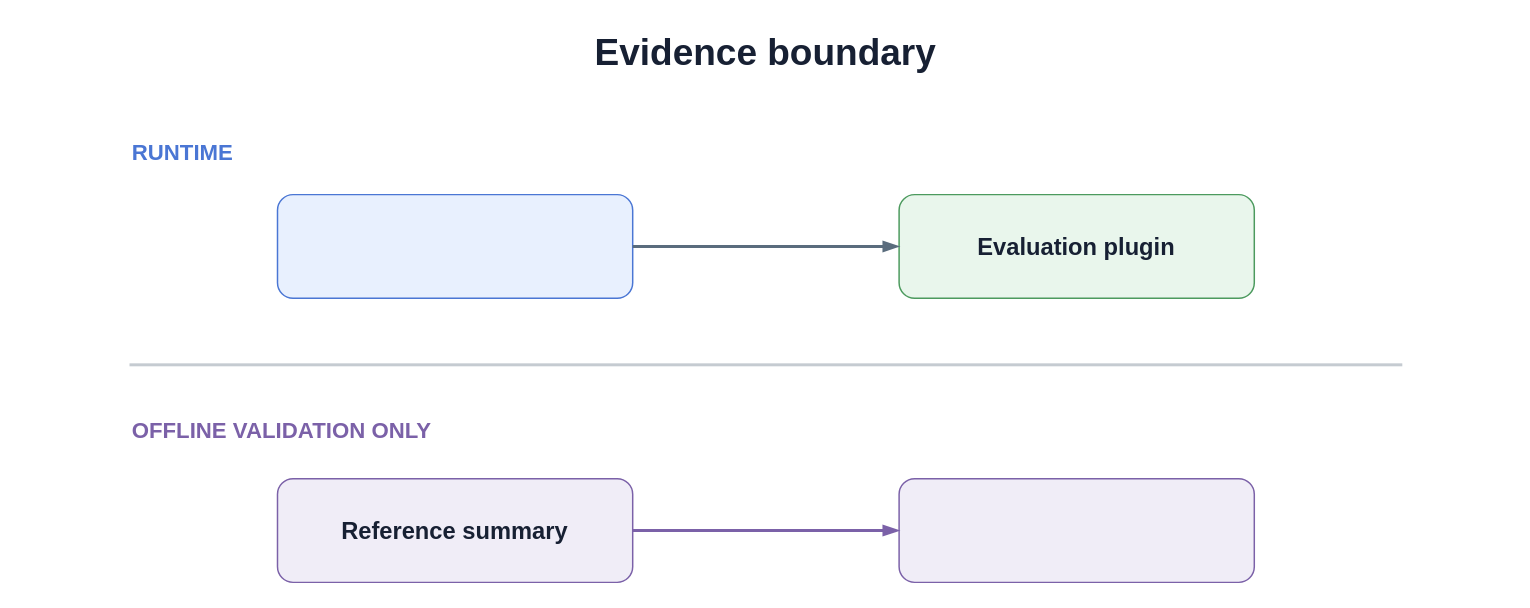
The diagram is 1530 pixels wide and 608 high, and some of its shapes have lost their labels. Here are the shapes that lost their labels. From the top down, the centre of each, then its label:
(x=454, y=245): Article + candidate
(x=1076, y=529): Weak-label report
